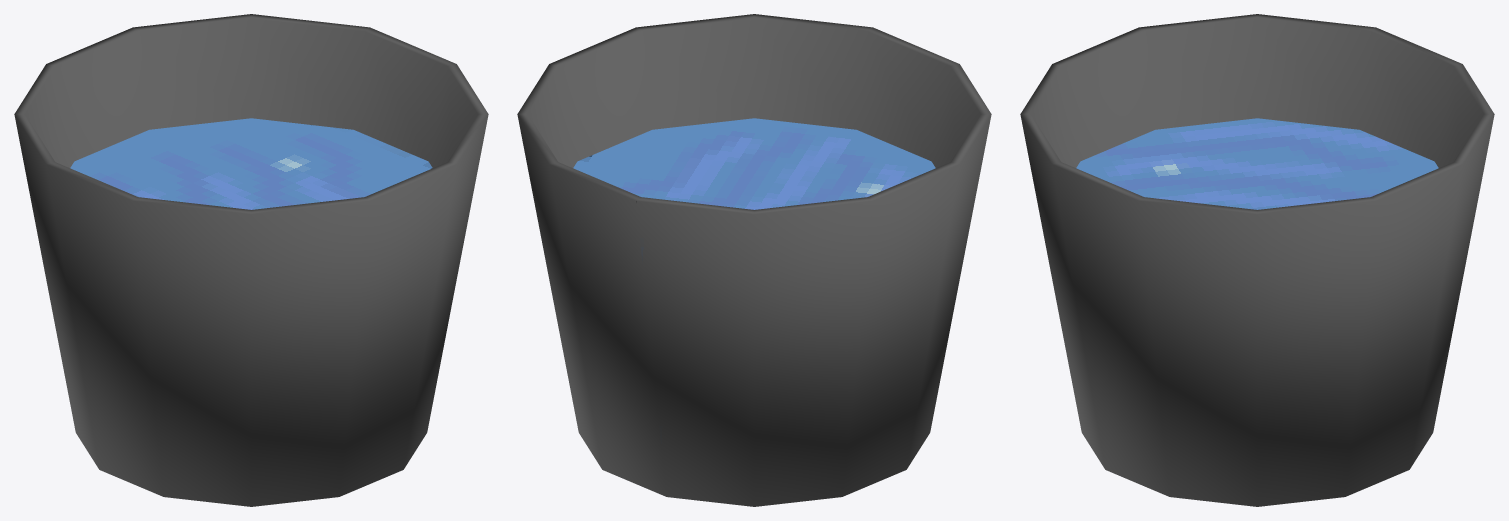
The model's file is bucket.glb.
3 views of the same model, side by side, from view 1: azimuth 30°, elevation 25°; view 2: azimuth 150°, elevation 25°; view 3: azimuth 270°, elevation 25° (orthographic).
Parts seen in each view (by area): view 1: Cylinder; view 2: Cylinder; view 3: Cylinder.
Part boxes in pixels (x1,y1,x2,y2): Cylinder: (14,14,488,506); Cylinder: (517,14,991,506); Cylinder: (1020,14,1494,506).
Bounding box in the file's own units: 2.7 × 2 × 2.7.
Materials: 1 (1 with a texture image).
